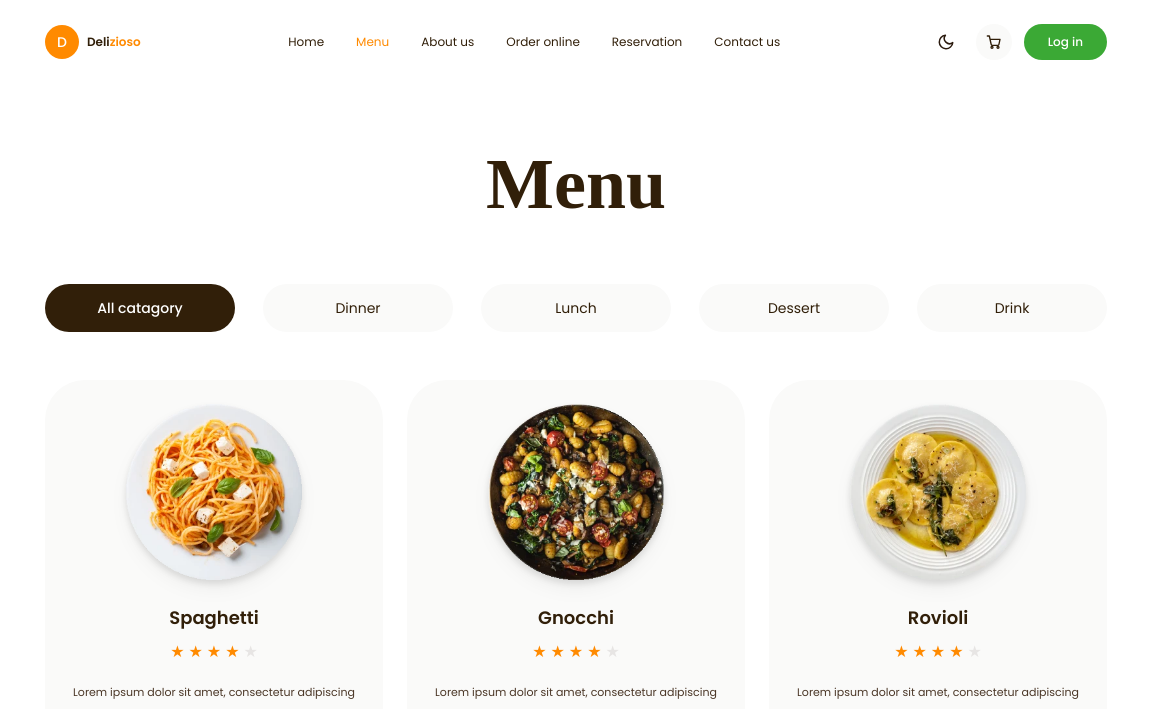
Menu (issues 5 & 6) › clicking a dish opens its details; Esc closes it
The image size is (1152, 709).
Click the button "Spaghetti".
click(214, 518)  # box [126,404,302,632]
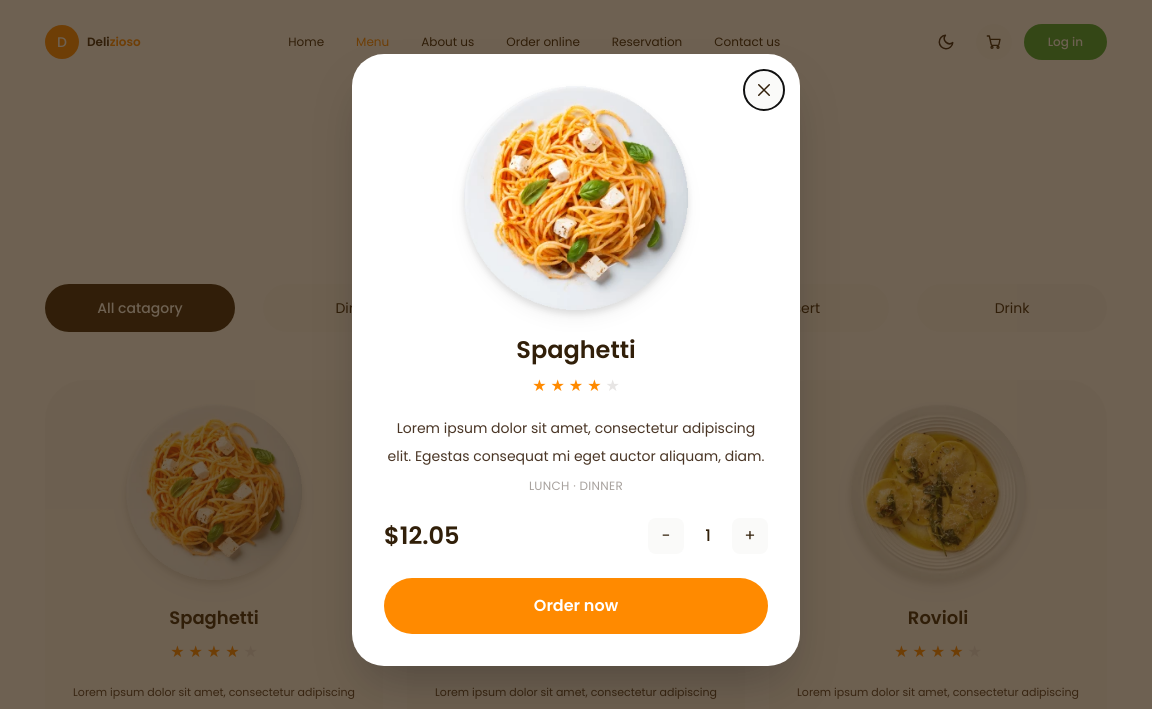
Expected: the heading "Spaghetti" is shown, [516,333,636,366]
Press Escape
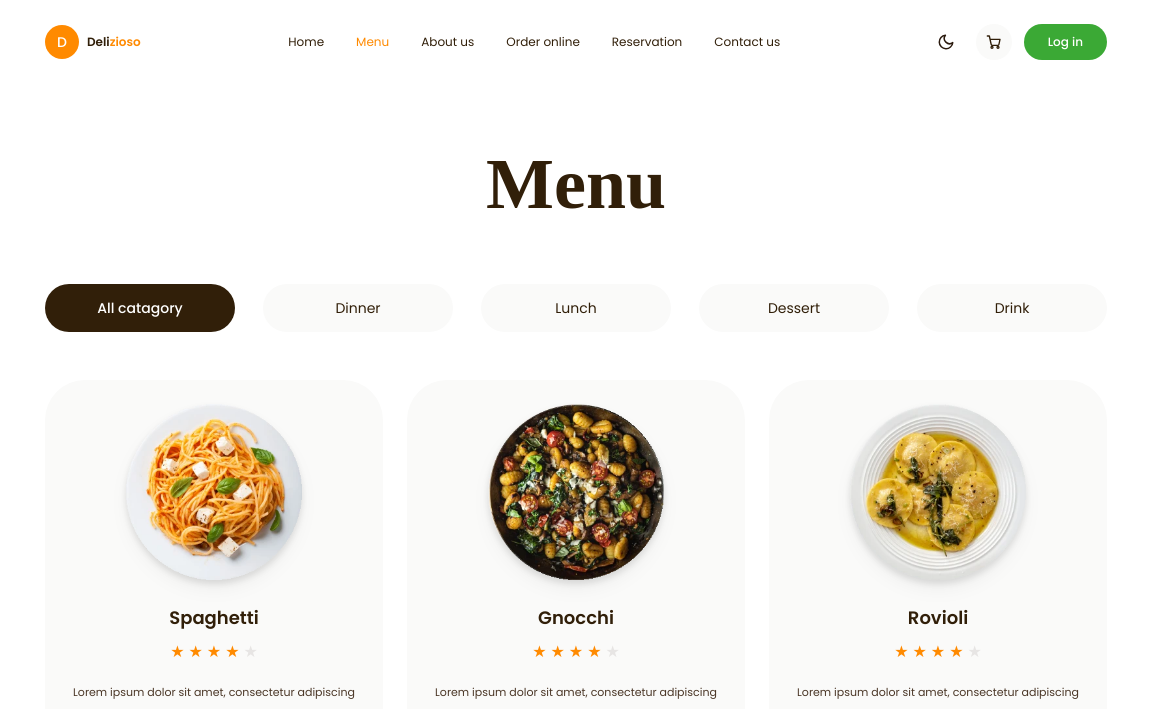
Expected: the dialog is gone
